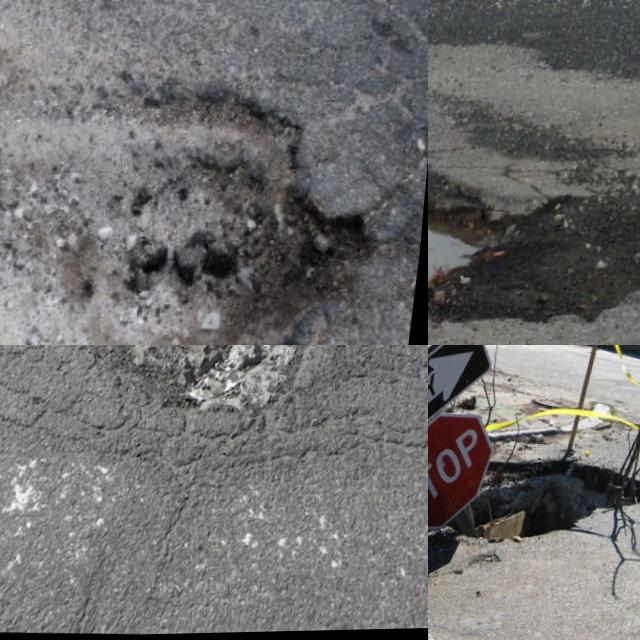Potholes: (0, 48, 390, 345), (428, 95, 571, 345), (428, 436, 640, 589), (65, 345, 365, 446)
